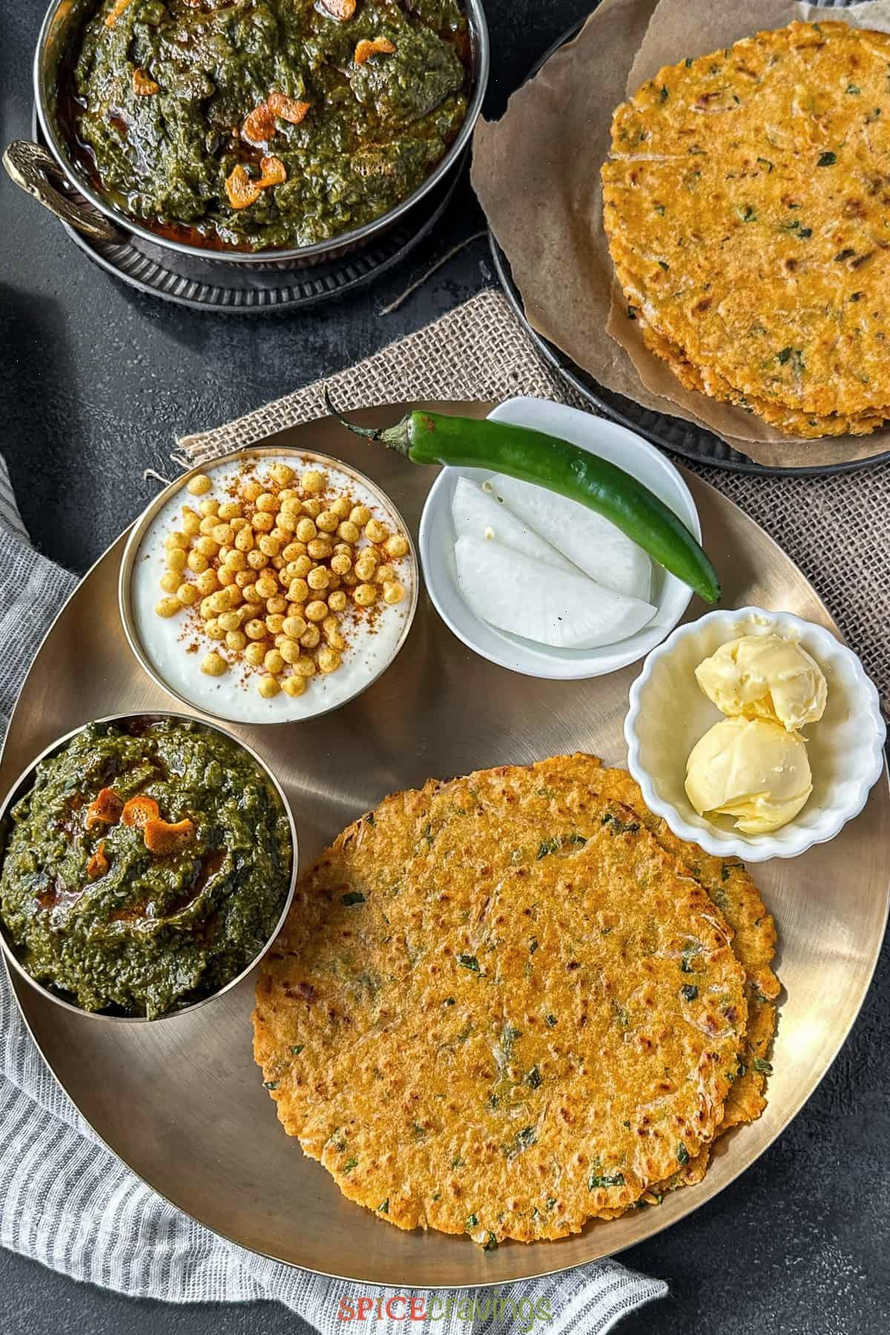saag: (69, 0, 465, 252), (20, 740, 249, 1017)
